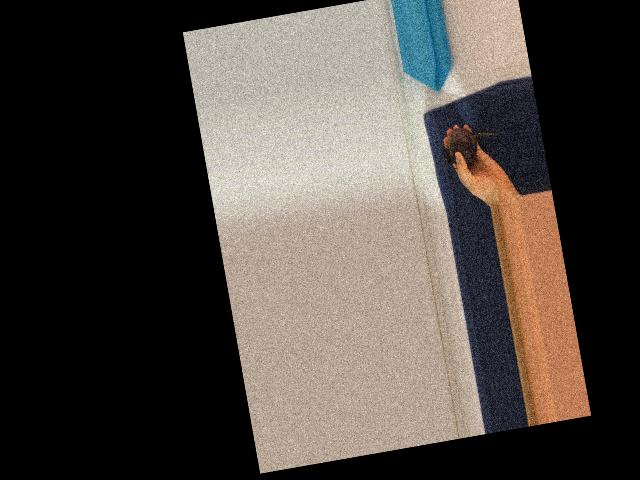beet: (440, 121, 503, 171)
